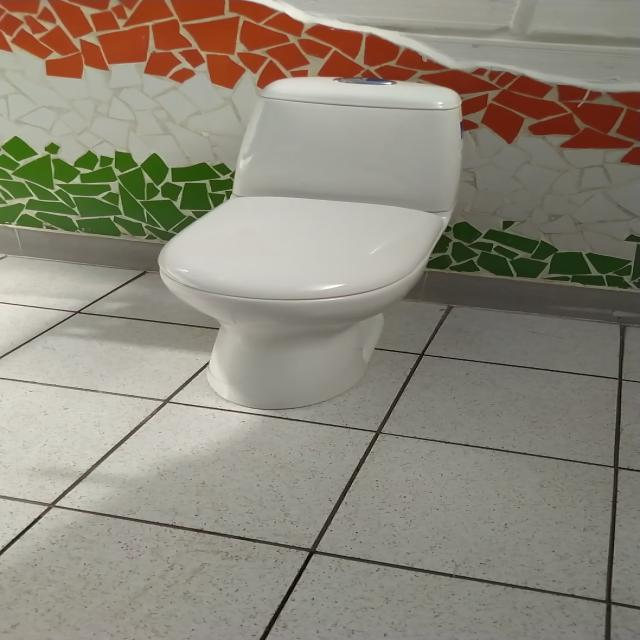toilet: (156, 76, 463, 410)
